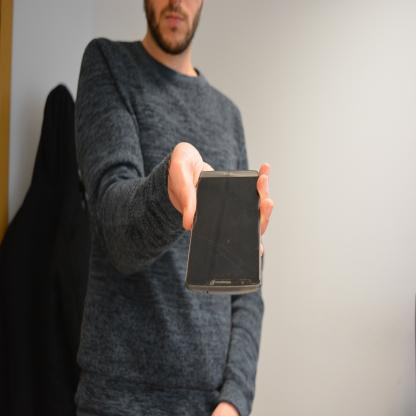smartphone: (184, 168, 262, 296)
